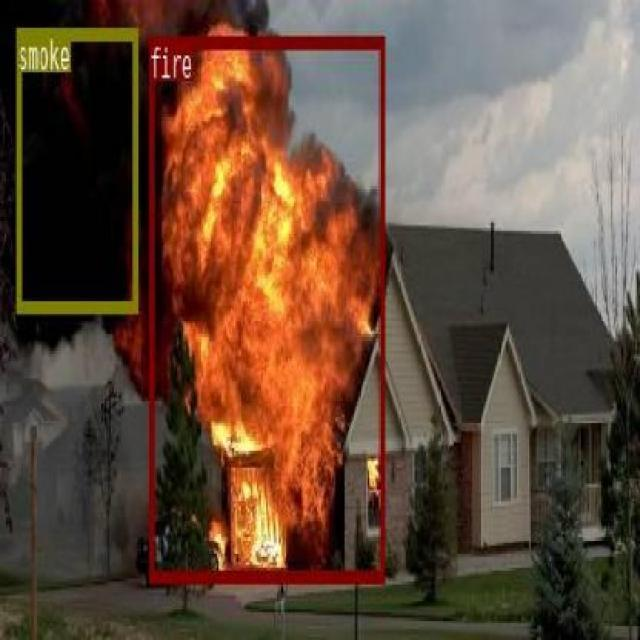Fire: (148, 36, 384, 582)
Smoke: (15, 26, 137, 311)
